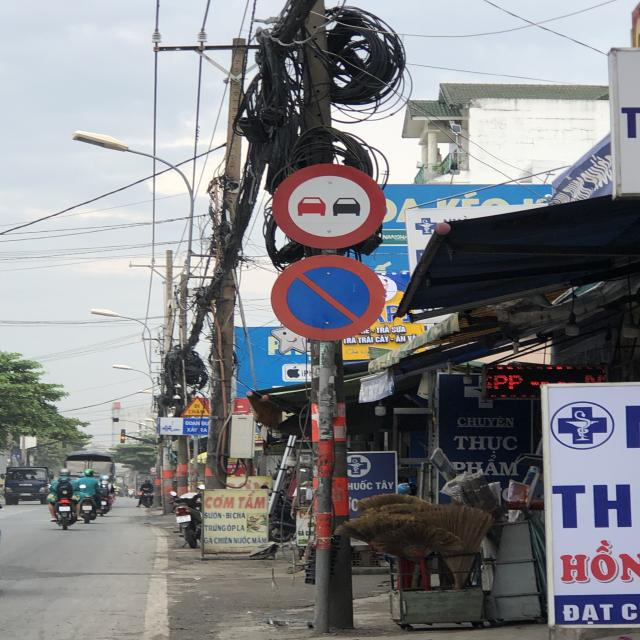Bien bao cam vuot: (266, 158, 391, 254)
